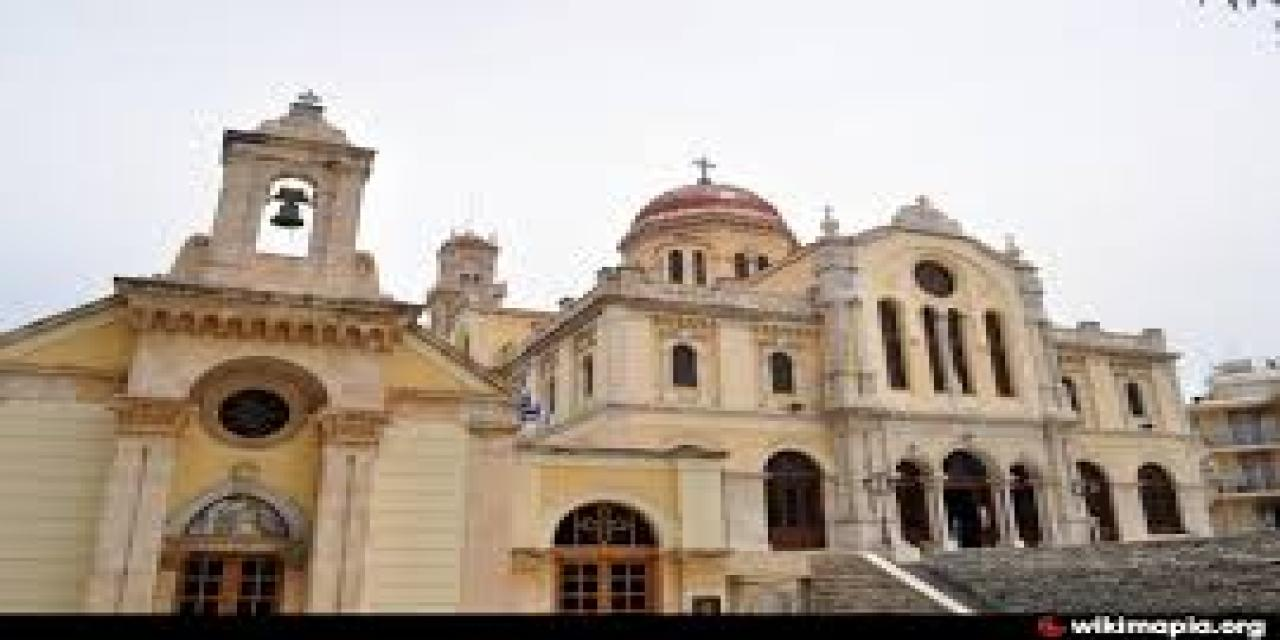Agios Minas: (12, 62, 1196, 617)
